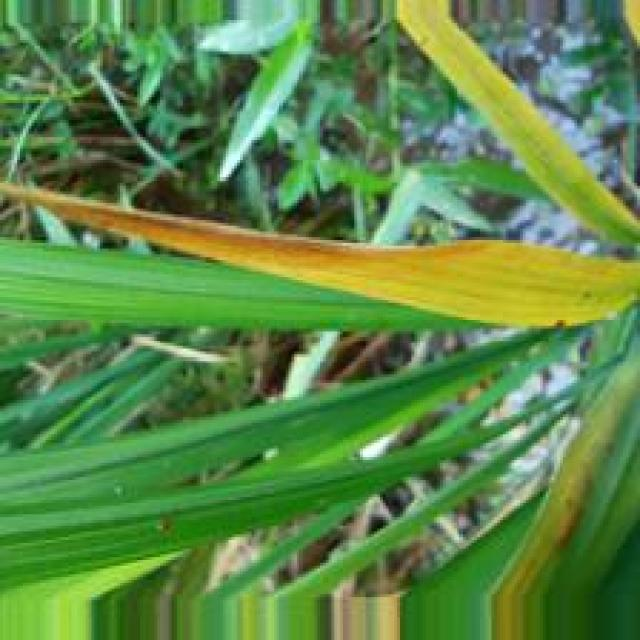Rice False Smut: (53, 198, 484, 267)
